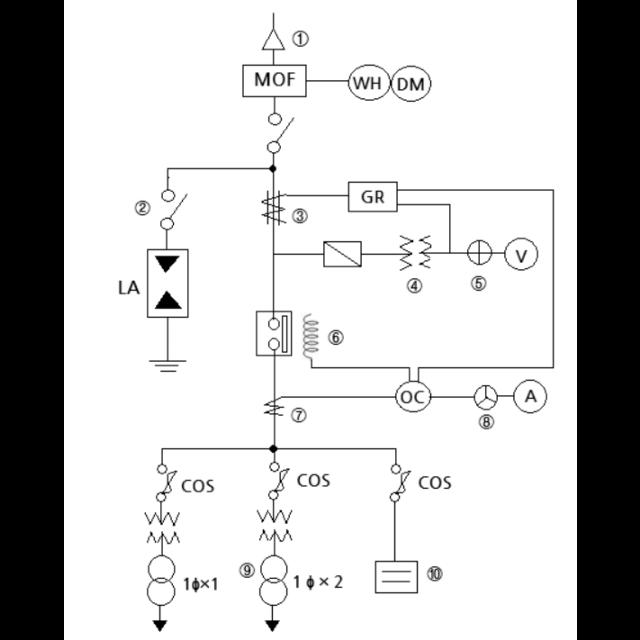A: (513, 378, 547, 412)
AS: (472, 386, 496, 410)
CB: (256, 311, 288, 355)
CH: (262, 30, 282, 50)
CT: (264, 397, 282, 419)
GND: (146, 356, 190, 378)
LA: (145, 248, 187, 318)
MOF: (241, 65, 305, 97)
PF: (157, 464, 176, 502), (390, 466, 410, 502), (268, 464, 288, 498)
PF2: (322, 242, 361, 266)
PT: (144, 512, 180, 544), (255, 511, 292, 542), (399, 234, 429, 270)
V: (503, 238, 537, 270)
VS: (466, 240, 490, 264)
ZCT: (261, 190, 285, 224)
ds: (267, 112, 293, 154), (161, 190, 187, 228)
